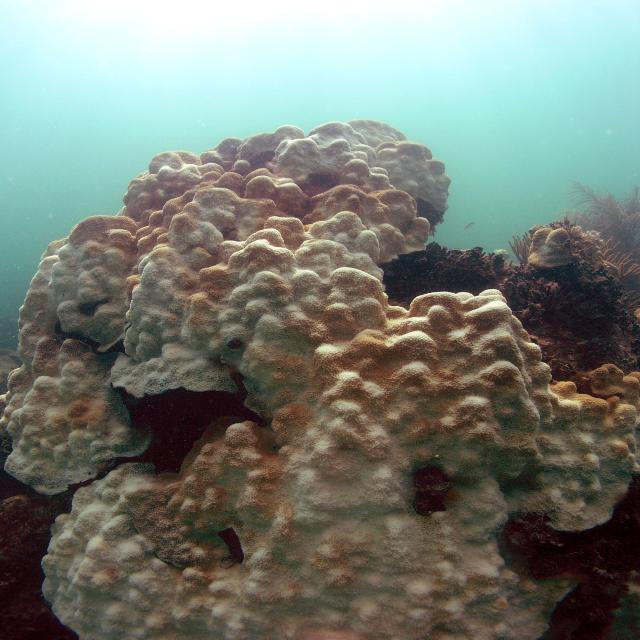Coral: (0, 120, 640, 640), (527, 228, 569, 268)
